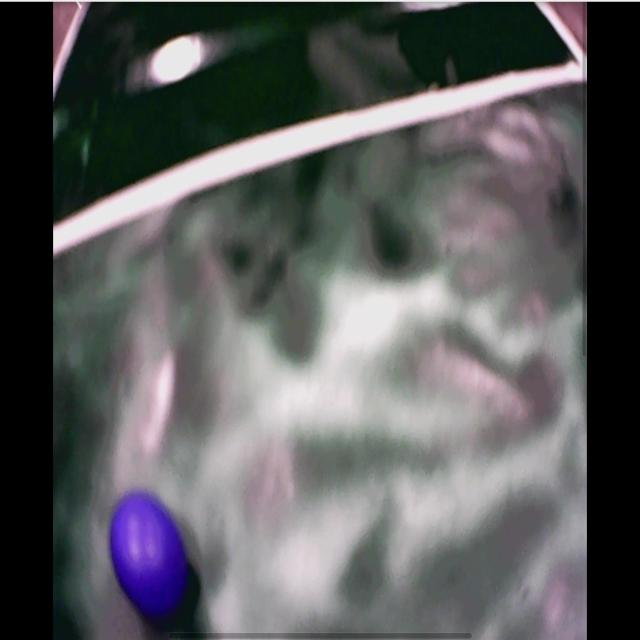ball: (111, 493, 189, 616)
